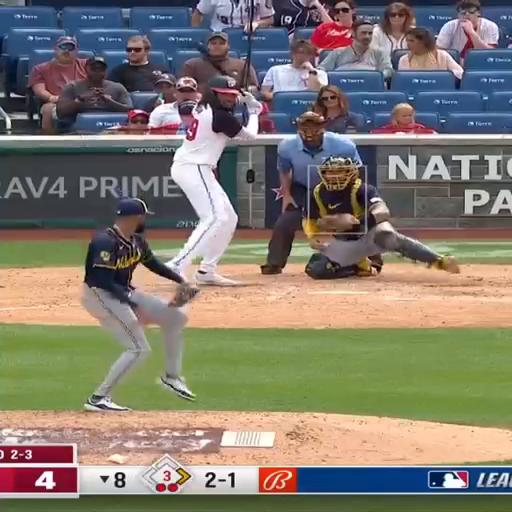bat: (196, 39, 229, 78)
